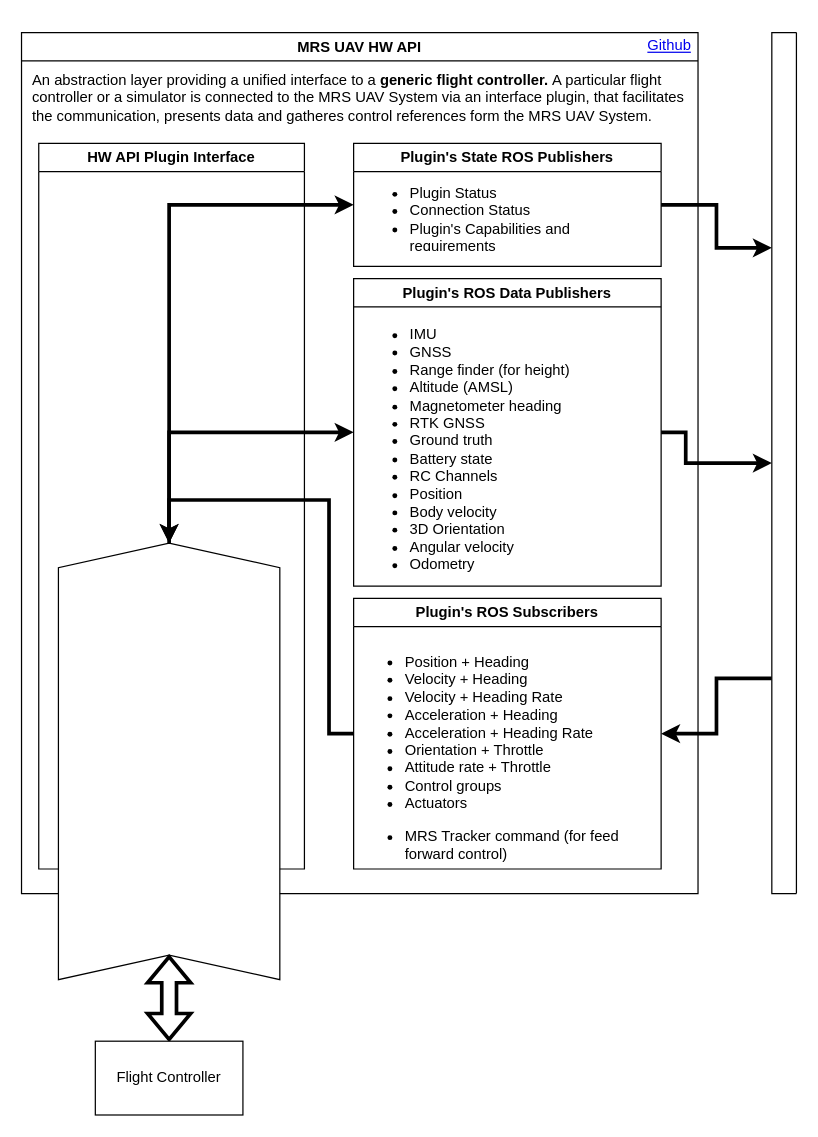
The diagram is 818 pixels wide and 1137 high, and some of its shapes have lost their labels. The centre of each missing label's shape, as x and y in pixels:
HW API Plugin (C++): (168,761)
MRS UAV System: (783,462)
